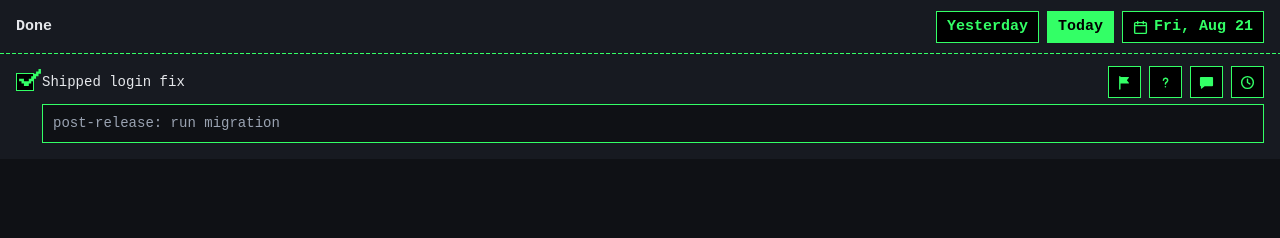
Test: DoneLogBox › shows a note read-only and opens an editor on comment-icon click
The image size is (1280, 238).
Expected: the text "post-release: run migration" is shown, x1=42 y1=104 x2=1264 y2=143
Comment icon opens an editor pre-filled with the note.
Click the button named "Edit note for Shipped login fix" at (1206, 82), box x1=1190 y1=66 x2=1223 y2=98
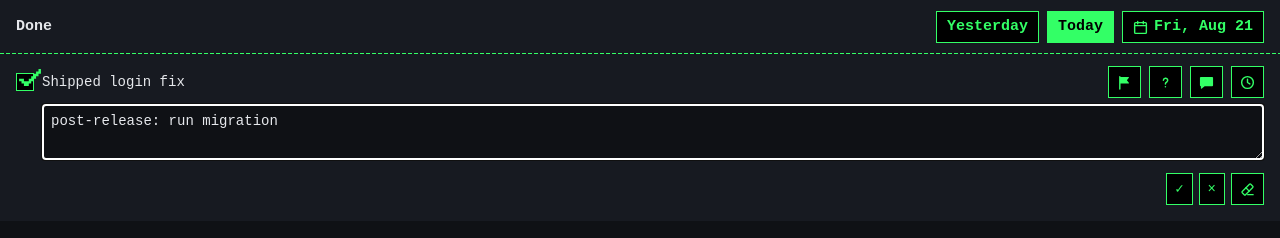
Expected: the text box with placeholder "Add a note…" holds "post-release: run migration", x1=42 y1=104 x2=1264 y2=160
